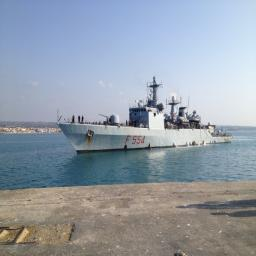Fragata: (56, 76, 239, 157)
